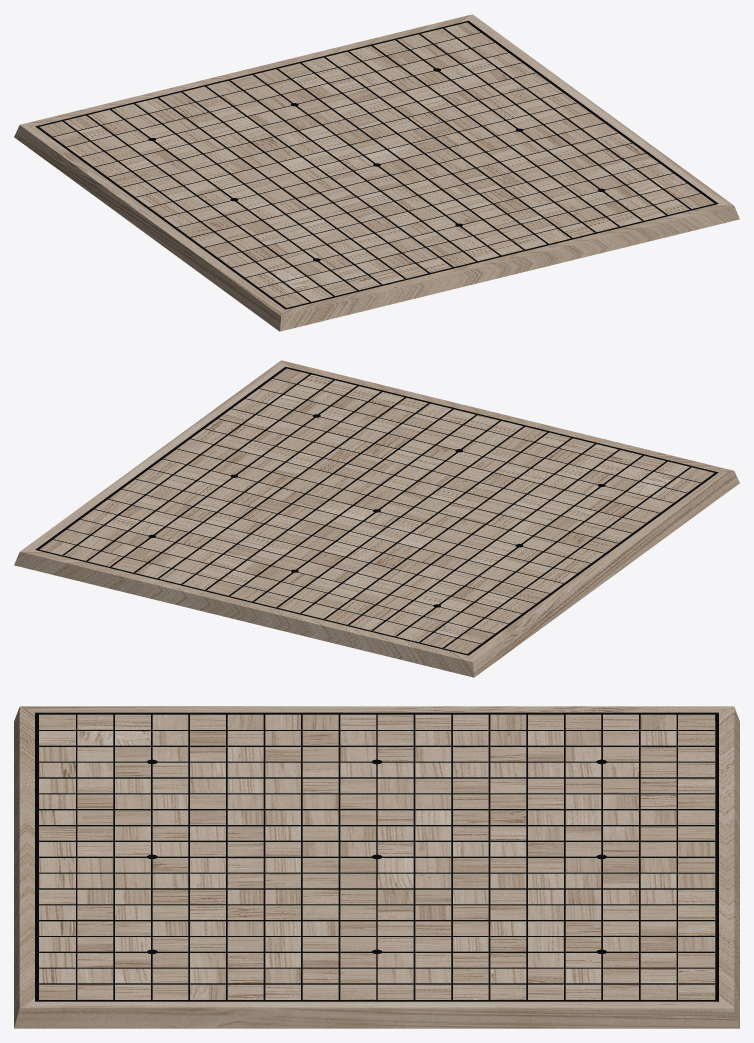
The model's file is go_board.glb.
The picture shows the model from 3 angles, top to bottom: view 1: azimuth 30°, elevation 25°; view 2: azimuth 150°, elevation 25°; view 3: azimuth 270°, elevation 25°; orthographic projection. The views are drawn at different scales.
Parts seen in each view (by area): view 1: grid, edge, lines, outline; view 2: grid, edge, lines, outline; view 3: grid, edge, lines, outline.
Boxes of the visible parts, bbox=[...] form: grid: bbox=[40, 22, 714, 307]; edge: bbox=[14, 14, 739, 331]; lines: bbox=[53, 28, 700, 302]; outline: bbox=[35, 20, 718, 309]; grid: bbox=[39, 368, 713, 653]; edge: bbox=[14, 360, 739, 677]; lines: bbox=[53, 374, 700, 648]; outline: bbox=[35, 366, 718, 655]; grid: bbox=[39, 714, 714, 999]; edge: bbox=[14, 706, 739, 1028]; lines: bbox=[39, 714, 714, 999]; outline: bbox=[35, 712, 718, 1001].
Bounding box in the file's own units: 2.94 × 0.0815 × 2.94.
Materials: 2 (1 with a texture image).
